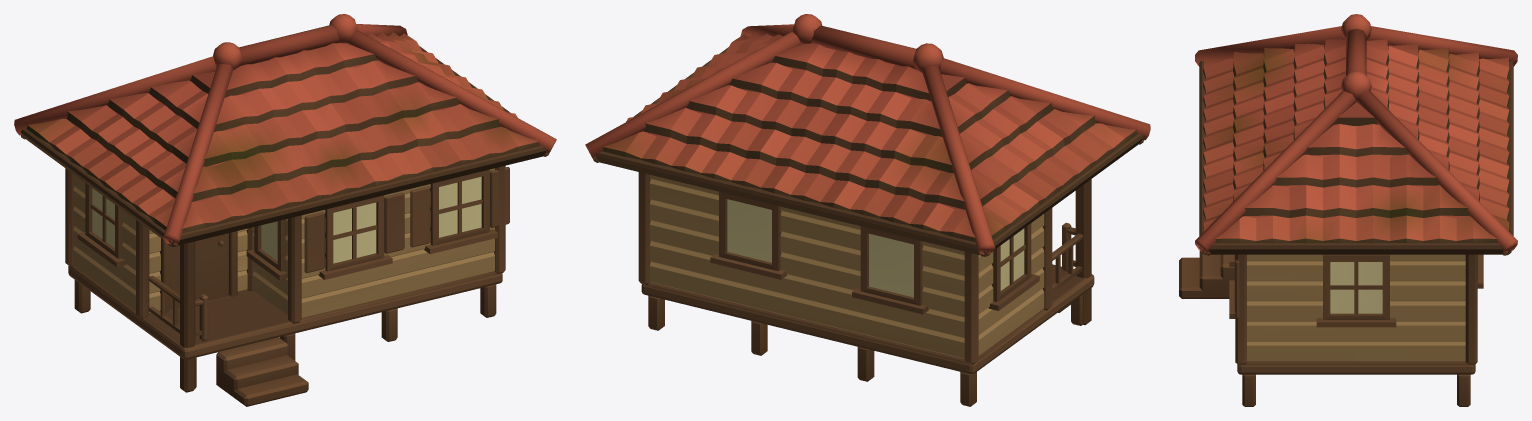
File: rumah_c.glb
The picture shows the model from 3 angles, left to right: view 1: azimuth 30°, elevation 25°; view 2: azimuth 150°, elevation 25°; view 3: azimuth 270°, elevation 25°; orthographic projection. The views are drawn at different scales.
Parts seen in each view (by area): view 1: rumah_c_mesh; view 2: rumah_c_mesh; view 3: rumah_c_mesh.
Boxes of the visible parts, x1=… form: rumah_c_mesh: x1=14, y1=14, x2=556, y2=406; rumah_c_mesh: x1=585, y1=14, x2=1150, y2=406; rumah_c_mesh: x1=1179, y1=14, x2=1517, y2=406.
Bounding box in the file's own units: 5.76 × 3.99 × 4.26.
